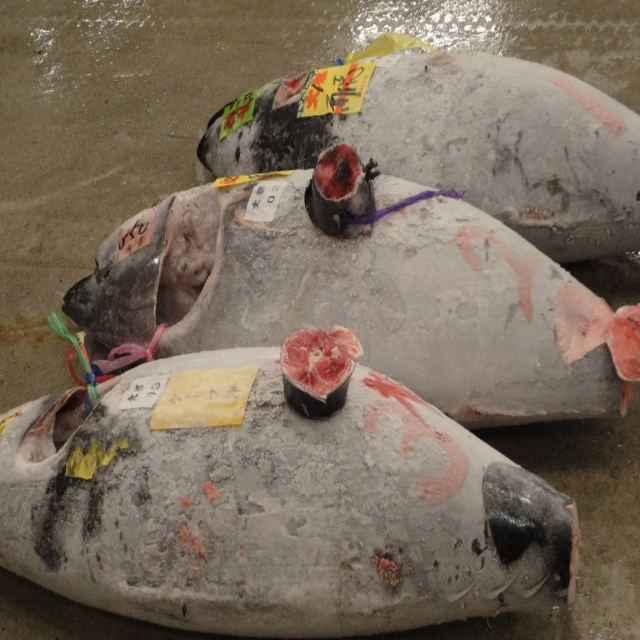Fish: (0, 52, 640, 640)
